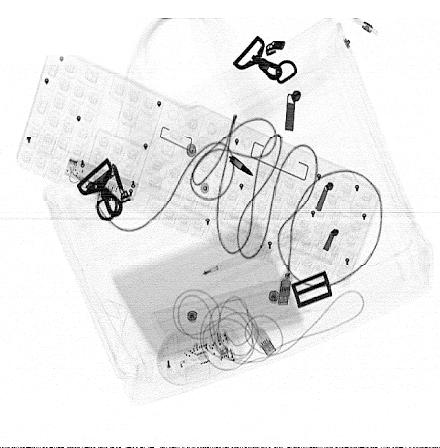Bullet: (229, 155, 254, 176)
